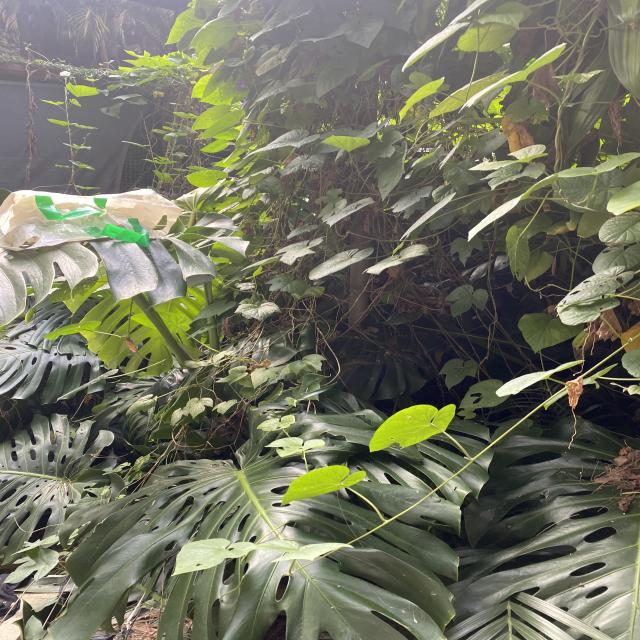bag: (0, 189, 182, 251)
